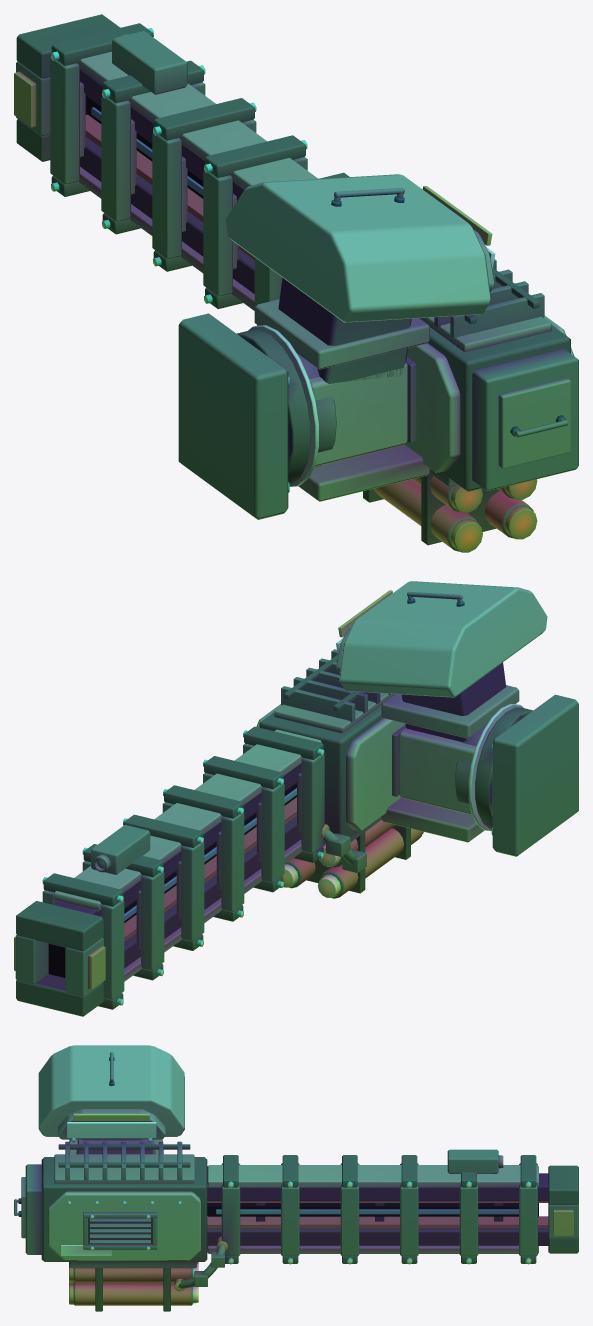
The model's file is arm_rail.glb.
3 views of the same model, one above another, from view 1: azimuth 30°, elevation 25°; view 2: azimuth 150°, elevation 25°; view 3: azimuth 270°, elevation 25° (orthographic). The views are drawn at different scales.
Visible parts, largest first — view 1: Body__gunmetal, Body__armor, Body__dark, Body__armor_sub, Body__armor_dark, Body__copper, Body__chrome; view 2: Body__armor, Body__gunmetal, Body__dark, Body__armor_sub, Body__armor_dark, Body__chrome, Body__copper, Body__bore; view 3: Body__armor, Body__dark, Body__gunmetal, Body__armor_dark, Body__armor_sub, Body__copper, Body__bore, Body__hazard, Body__emit_cyan, Body__chrome, Body__accent.
Boxes of the visible parts, left/top/right/bottom form: Body__gunmetal: left=16, top=34, right=578, bottom=519; Body__armor: left=78, top=51, right=574, bottom=472; Body__dark: left=16, top=14, right=570, bottom=545; Body__armor_sub: left=80, top=82, right=570, bottom=501; Body__armor_dark: left=112, top=31, right=533, bottom=551; Body__copper: left=14, top=71, right=537, bottom=552; Body__chrome: left=51, top=28, right=318, bottom=492; Body__armor: left=54, top=581, right=547, bottom=981; Body__gunmetal: left=15, top=591, right=578, bottom=999; Body__dark: left=16, top=598, right=532, bottom=1016; Body__armor_sub: left=136, top=625, right=519, bottom=948; Body__armor_dark: left=91, top=820, right=422, bottom=898; Body__chrome: left=42, top=703, right=523, bottom=1005; Body__copper: left=14, top=797, right=423, bottom=989; Body__bore: left=48, top=782, right=296, bottom=977; Body__armor: left=38, top=1045, right=538, bottom=1260; Body__dark: left=18, top=1057, right=578, bottom=1311; Body__gunmetal: left=14, top=1052, right=578, bottom=1288; Body__armor_dark: left=73, top=1149, right=498, bottom=1305; Body__armor_sub: left=21, top=1109, right=194, bottom=1238; Body__copper: left=69, top=1201, right=573, bottom=1304; Body__bore: left=207, top=1203, right=538, bottom=1216; Body__hazard: left=60, top=1122, right=156, bottom=1256; Body__emit_cyan: left=216, top=1209, right=518, bottom=1214; Body__chrome: left=67, top=1138, right=531, bottom=1303; Body__accent: left=73, top=1113, right=149, bottom=1121.
Size of the model in its own units: 1 by 1.1 by 2.66.
